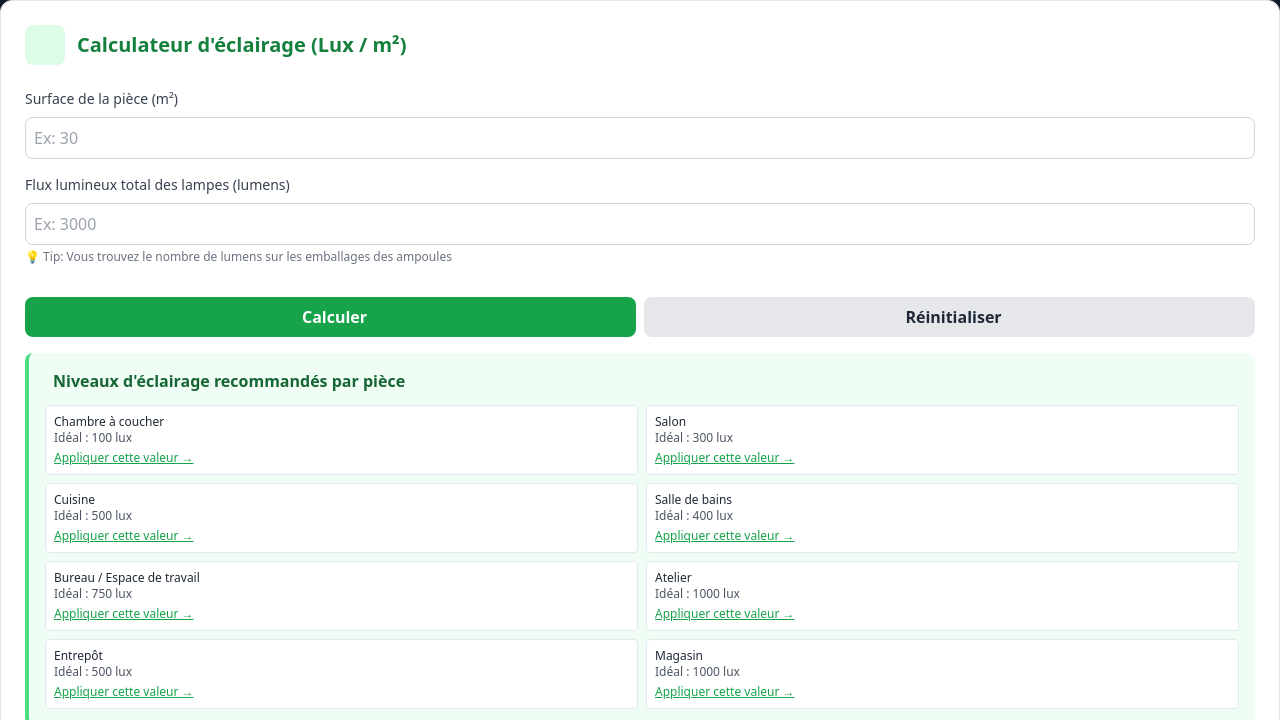
Test: LightingCalculator › resets form correctly
This screenshot has width=1280, height=720.
Type "30" into the number field with placeholder "Ex: 30". click: (640, 138)
box: [25,117,1255,159]
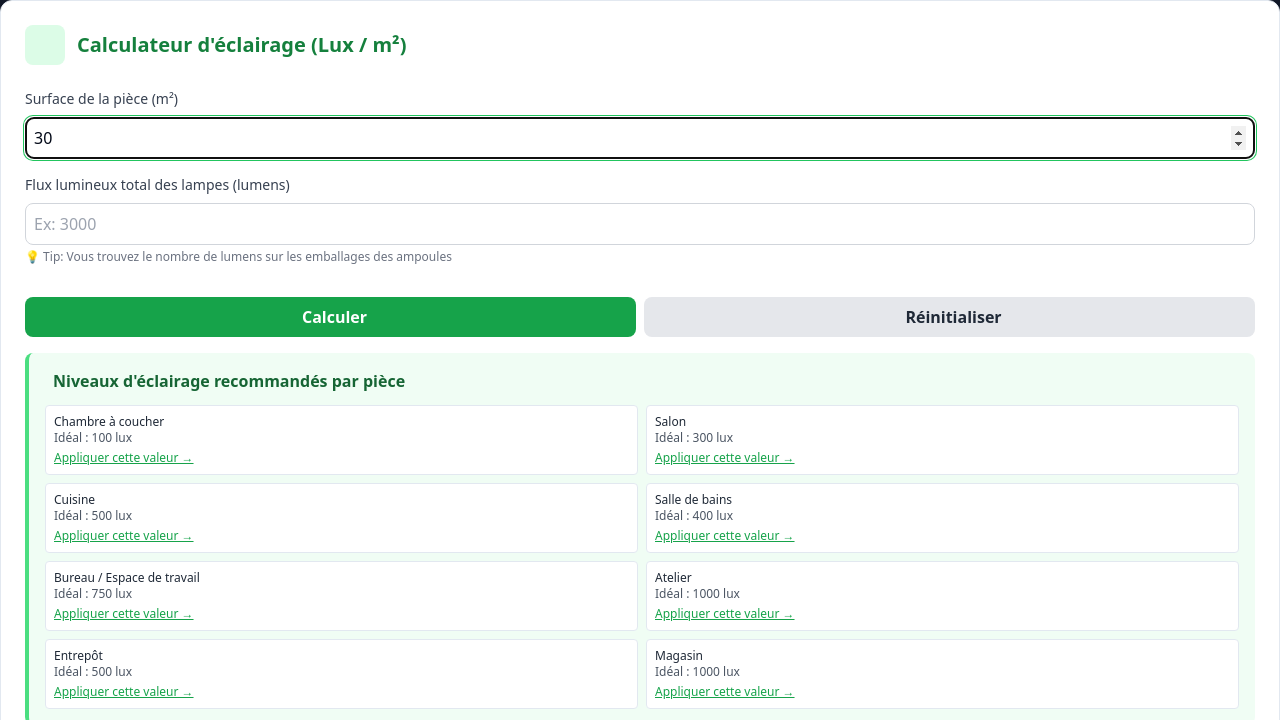
Type "3000" into the number field with placeholder "Ex: 3000". click: (640, 224)
box: [25,203,1255,245]
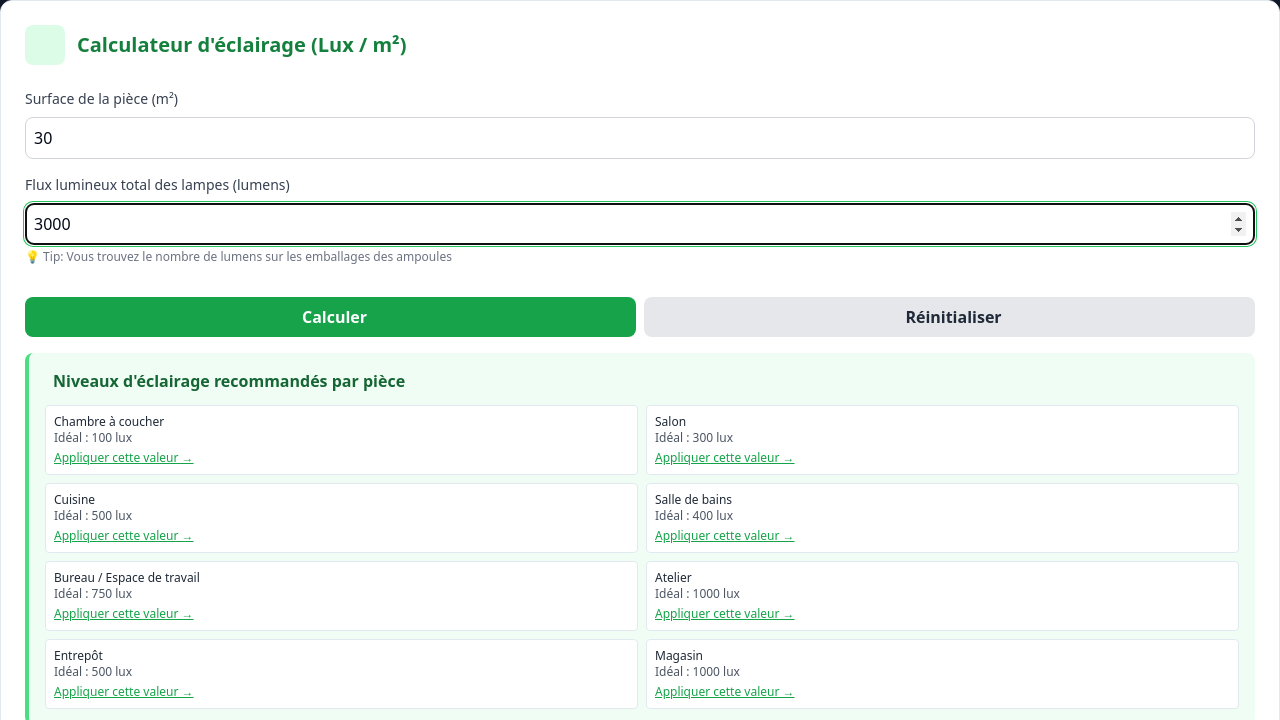
Click the button with aria-label "Calculer l'éclairement en lux". click: (330, 317)
box: [25,297,636,337]
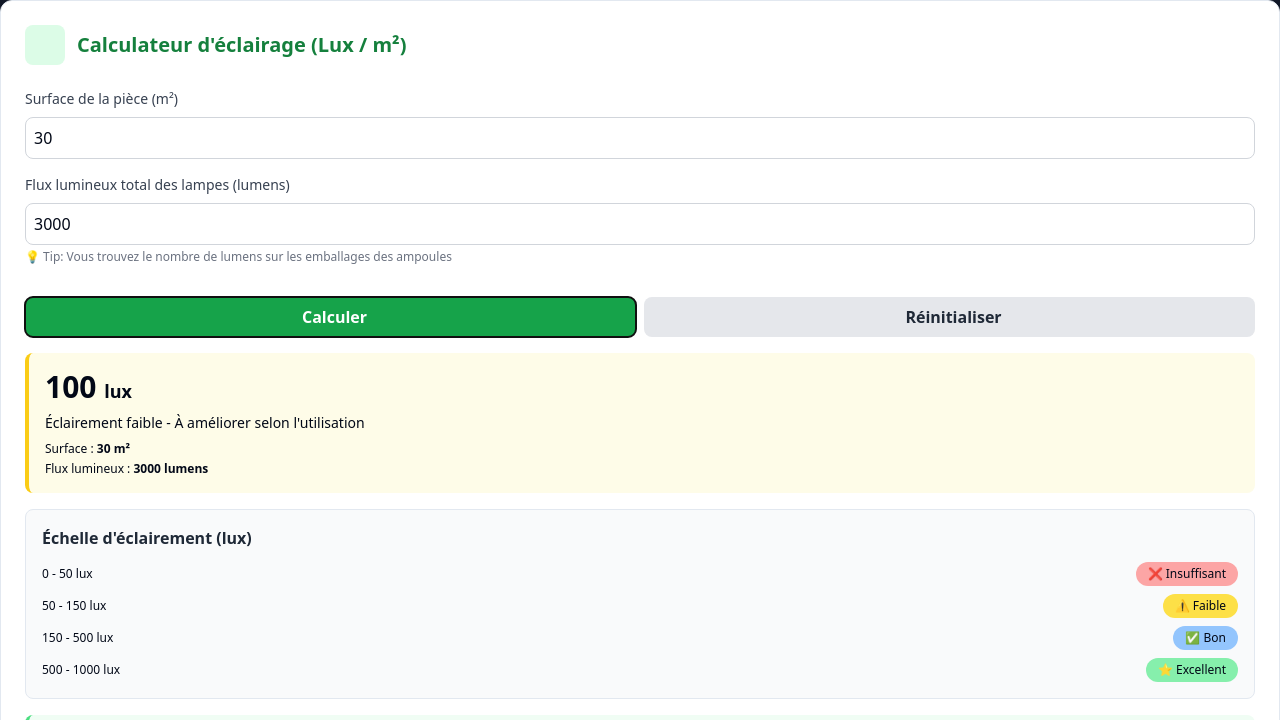
expect the text "100" is shown: met, box [45,366,96,407]
expect the text "lux" is shown: met, box [104,379,132,403]
Click the button with aria-label "Réinitialiser le calculateur". click: (950, 317)
box: [644,297,1255,337]
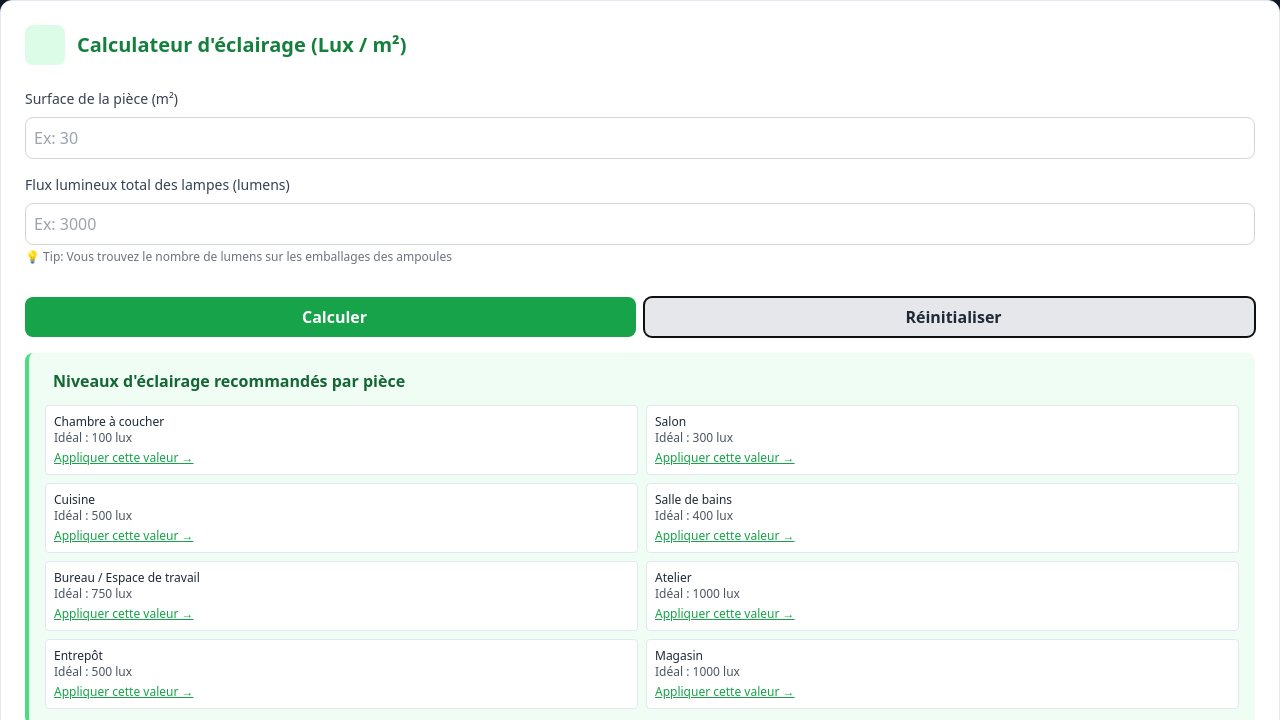
expect the number field with placeholder "Ex: 30" is empty: met, box [25,117,1255,159]
expect the number field with placeholder "Ex: 3000" is empty: met, box [25,203,1255,245]
